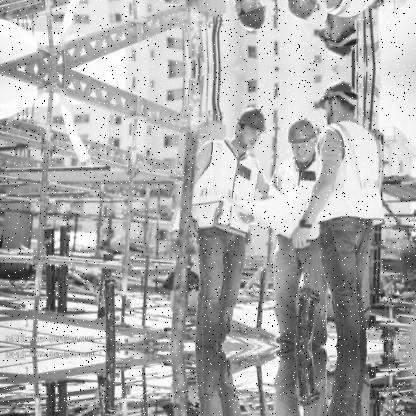Helmet: (314, 67, 359, 124), (316, 15, 361, 66), (283, 113, 321, 164), (228, 0, 268, 46), (235, 104, 266, 154), (282, 0, 326, 31)
